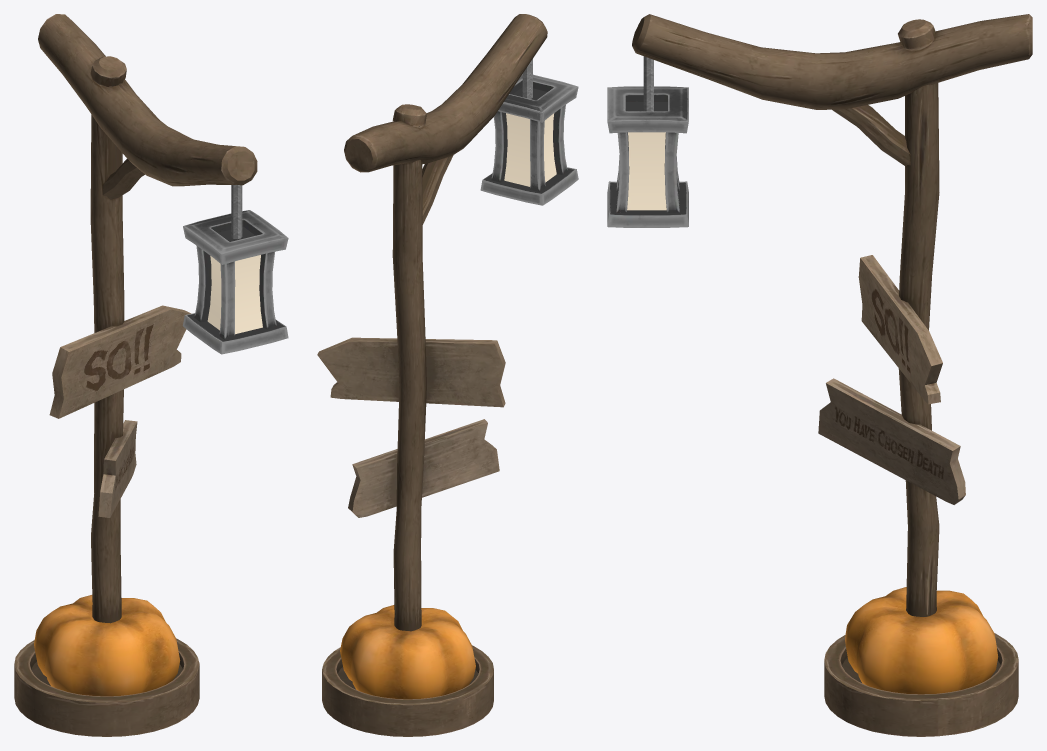
The model's file is scene-transformed-1603fdb6.glb.
3 renders of one model, left to right at view 1: azimuth 30°, elevation 25°; view 2: azimuth 150°, elevation 25°; view 3: azimuth 270°, elevation 25°, orthographic. The views are drawn at different scales.
Visible parts, largest first — view 1: Lantern1_2_Lantern1_0, Lantern1_Light_Lantern1_Light_0; view 2: Lantern1_2_Lantern1_0, Lantern1_Light_Lantern1_Light_0; view 3: Lantern1_2_Lantern1_0, Lantern1_Light_Lantern1_Light_0.
Part boxes in pixels (x1,y1,x2,y2): Lantern1_2_Lantern1_0: (14,14,257,736); Lantern1_Light_Lantern1_Light_0: (182,210,288,354); Lantern1_2_Lantern1_0: (317,14,547,736); Lantern1_Light_Lantern1_Light_0: (480,74,578,205); Lantern1_2_Lantern1_0: (632,14,1032,736); Lantern1_Light_Lantern1_Light_0: (607,86,688,227).
Size of the model in its own units: 0.9361 by 3.37 by 1.91.
Materials: 2 (2 with a texture image).
